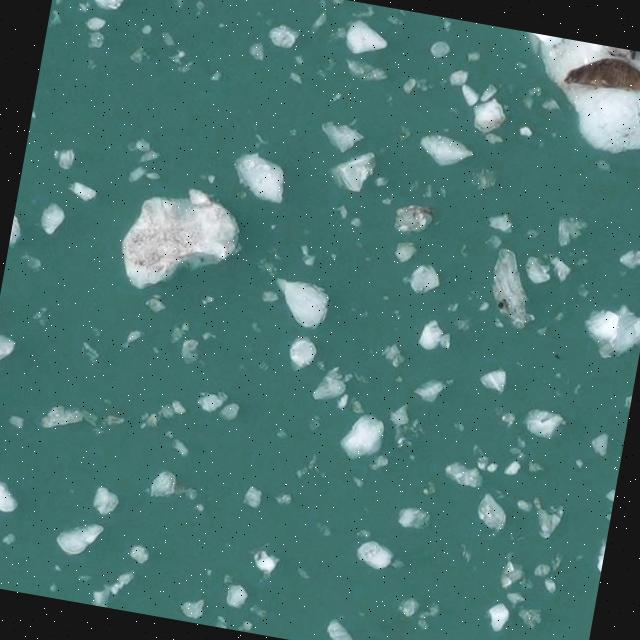seal: (562, 54, 640, 93)
